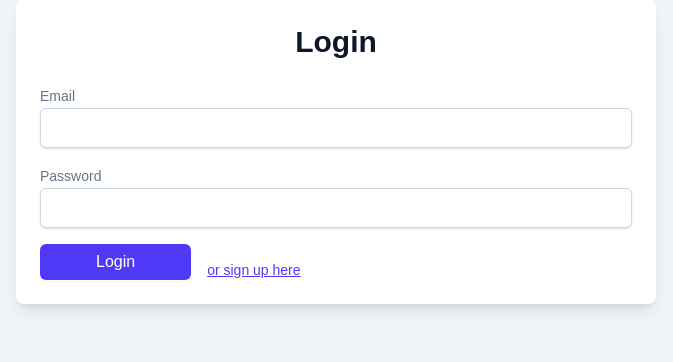
Test: auth flow › shows an error for invalid login credentials
The width and height of the screenshot is (673, 362).
Type "wrong@example.com" into the field with test id "auth-login-email".
click(336, 128); type("wrong@example.com")  # box [40, 108, 632, 148]
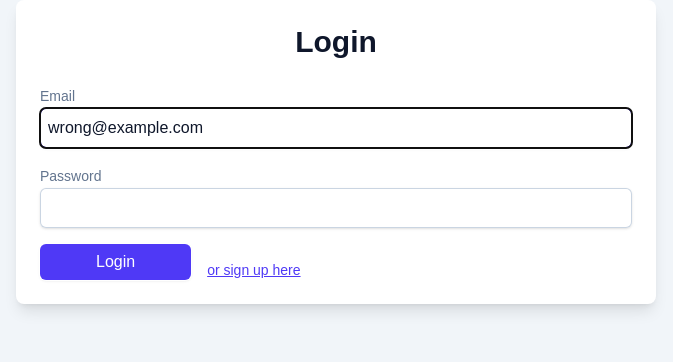
Type "wrongpassword" into the password field with test id "auth-login-password".
click(336, 208); type("wrongpassword")  # box [40, 188, 632, 228]
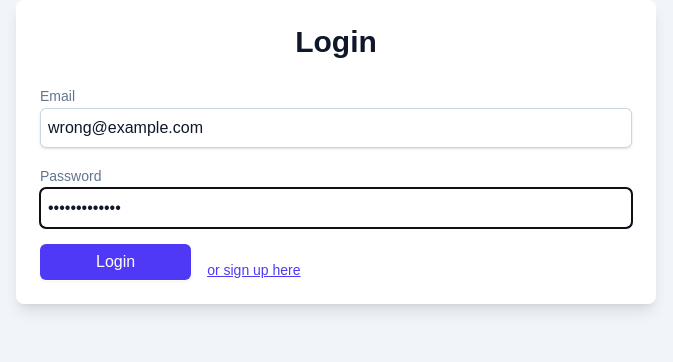
Click the button with test id "auth-login-submit".
click(116, 262)  # box [40, 244, 191, 280]
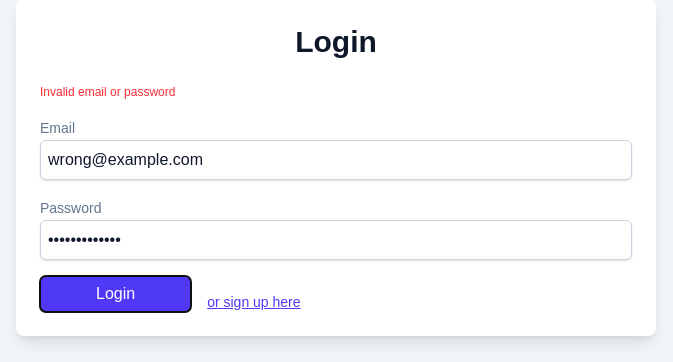
Result: the message reads "Invalid email or password" at [40, 85, 175, 99]
